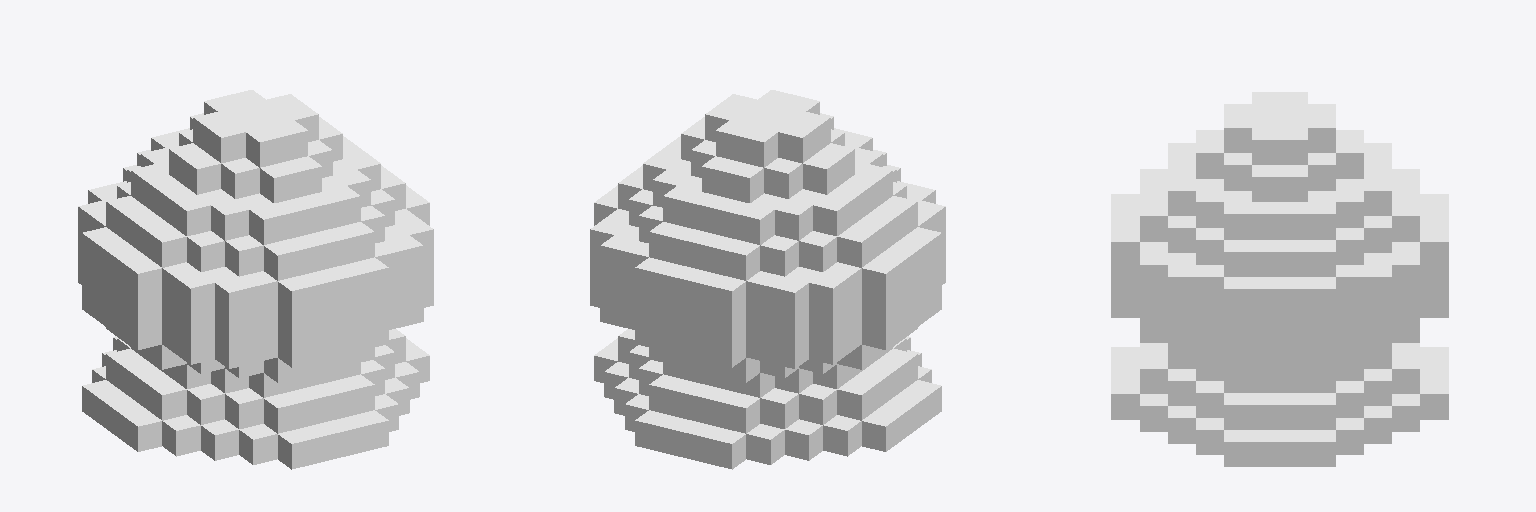
Rendered from minialien.obj.
The picture shows the model from 3 angles: view 1: azimuth 30°, elevation 25°; view 2: azimuth 150°, elevation 25°; view 3: azimuth 270°, elevation 25°; orthographic projection.
Visible parts, largest first — view 1: object 1; view 2: object 1; view 3: object 1.
Part boxes in pixels (x1,y1,x2,y2): object 1: (78,90,433,469); object 1: (590,90,945,469); object 1: (1111,92,1448,466).
Size of the model in its own units: 1.2 by 1.1 by 1.2.